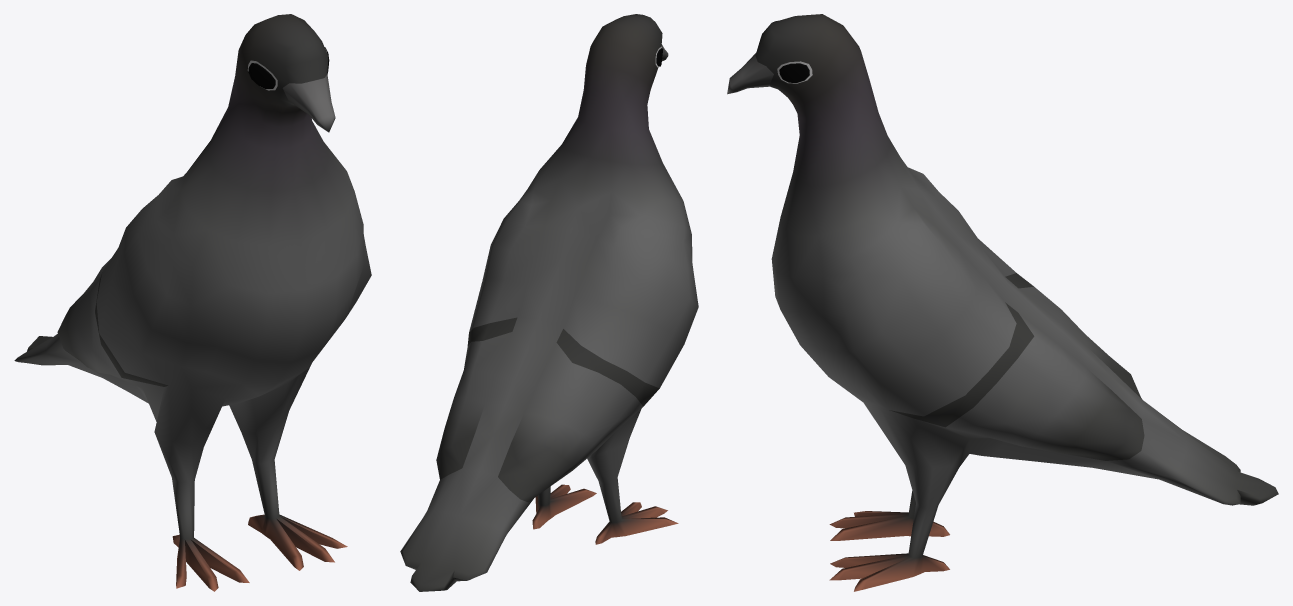
The model's file is animals-birdsupright-groundedpigeon_v1.glb.
3 renders of one model, left to right at view 1: azimuth 30°, elevation 25°; view 2: azimuth 150°, elevation 25°; view 3: azimuth 270°, elevation 25°, orthographic. The views are drawn at different scales.
Parts seen in each view (by area): view 1: GroundedPigeon.001; view 2: GroundedPigeon.001; view 3: GroundedPigeon.001.
Part boxes in pixels (left/top/right/bottom): GroundedPigeon.001: left=14, top=14, right=371, bottom=591; GroundedPigeon.001: left=400, top=14, right=698, bottom=591; GroundedPigeon.001: left=727, top=14, right=1278, bottom=591.
Size of the model in its own units: 0.0917 by 0.2168 by 0.2031.
